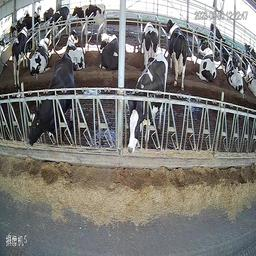cow: (121, 54, 170, 157), (27, 53, 75, 149), (161, 17, 189, 93), (72, 2, 106, 43), (10, 24, 29, 86), (30, 32, 54, 74), (142, 18, 159, 67), (66, 30, 86, 71), (99, 29, 118, 72), (225, 52, 244, 94), (52, 5, 67, 37), (210, 23, 229, 46), (22, 9, 45, 28), (247, 60, 255, 98), (45, 3, 54, 31)
